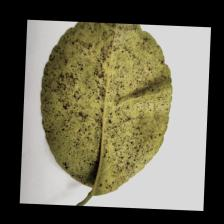canker: (65, 57, 139, 152)
